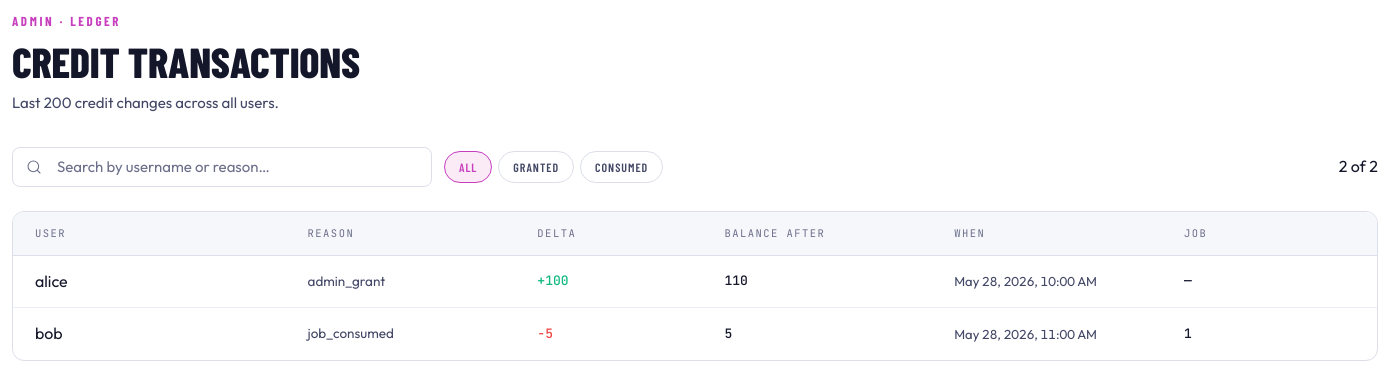
it: AdminCredits › filters by 'granted' sign
The width and height of the screenshot is (1390, 378).
Expected: the element with test id "credits-table" is shown, [12,211,1378,360]
Click the button "granted": (536, 167) [498,151,574,183]
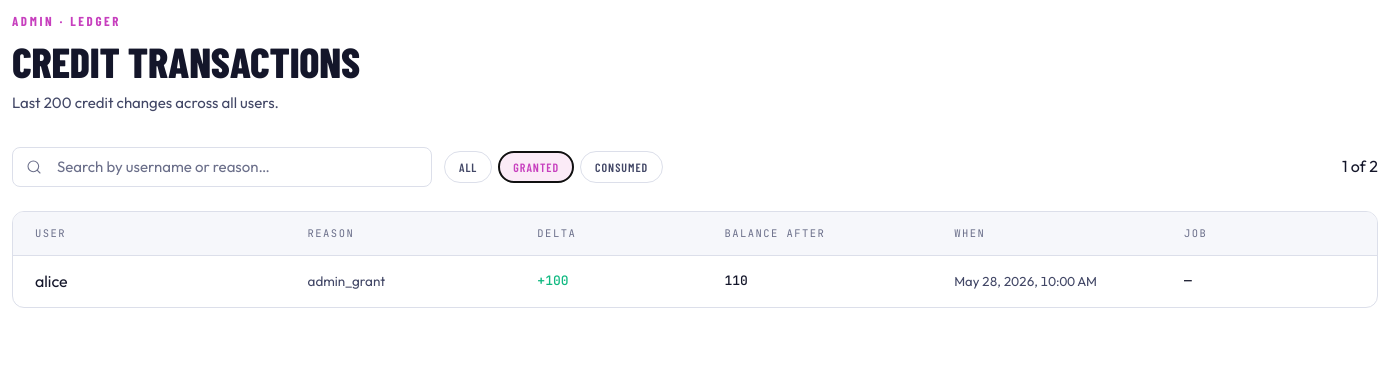
Expected: the text "alice" is shown, [35,271,68,291]
Expected: the text "bob" is gone
